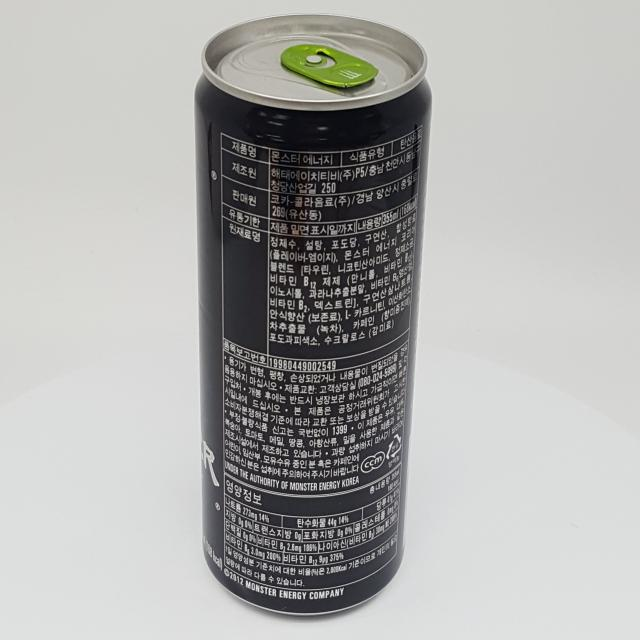--------355ML: (195, 15, 431, 616)
